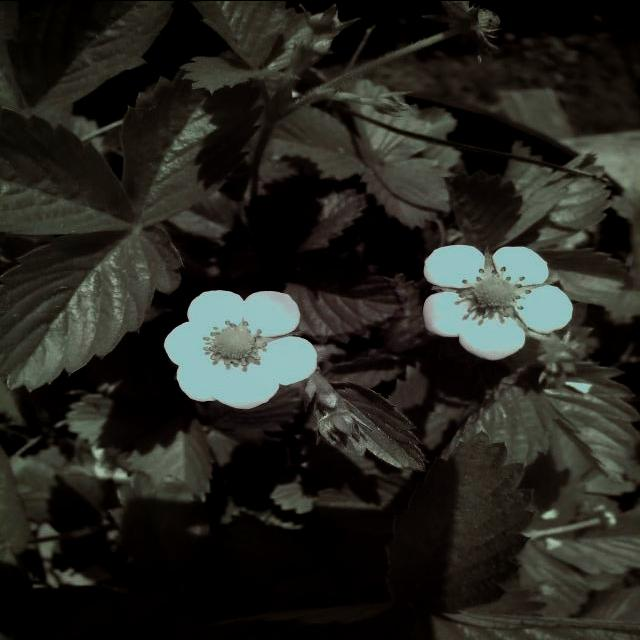flower: (158, 289, 326, 409), (416, 241, 574, 362)
